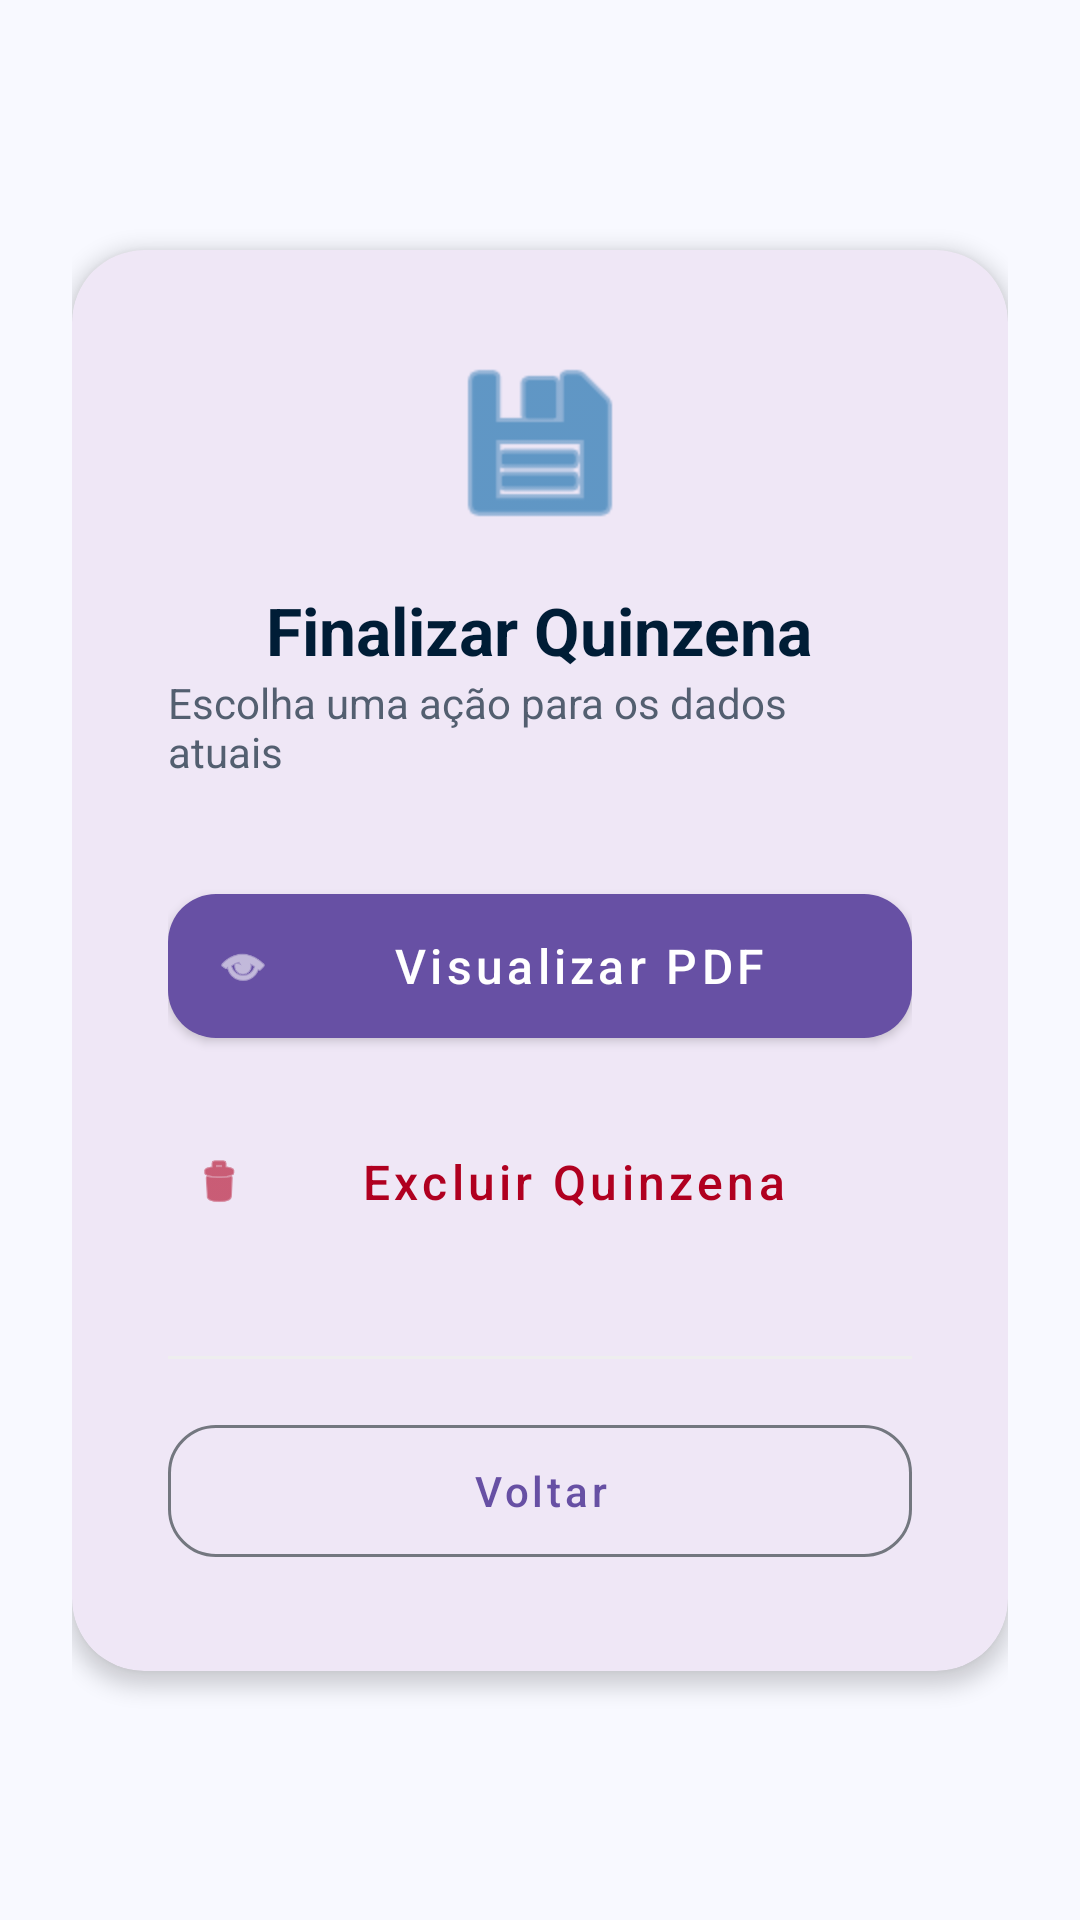

Icons on this 1080w x 1920h Android screen, each with its box as (x1, y1, x2, y2):
save: (468, 370, 612, 516)
